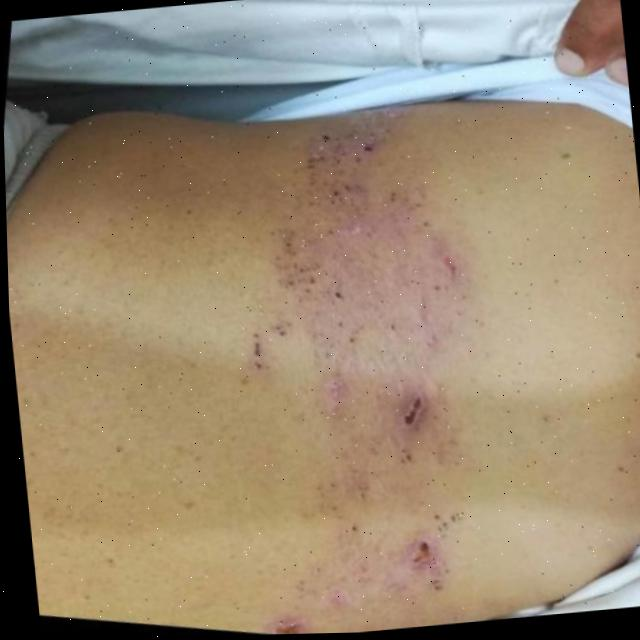Shingles: (228, 116, 505, 635)
